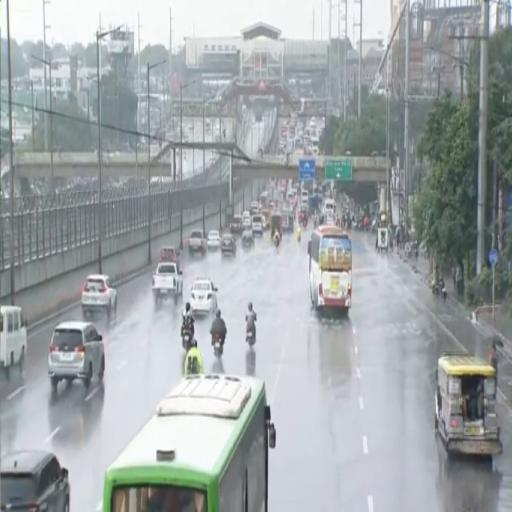bus: (103, 375, 275, 511), (308, 226, 351, 312)
car: (0, 451, 70, 511), (48, 322, 104, 391), (0, 306, 26, 377), (81, 275, 116, 317), (190, 278, 217, 313), (159, 247, 179, 267), (221, 234, 236, 254), (230, 215, 243, 234), (241, 229, 254, 248), (207, 231, 220, 249), (252, 215, 263, 235), (250, 202, 260, 216), (243, 212, 251, 229)
jeepney: (435, 354, 502, 456)
motorcycle: (246, 313, 256, 346), (433, 282, 447, 301), (212, 334, 223, 358), (182, 329, 192, 351), (438, 283, 447, 301), (273, 236, 280, 247)
truck: (152, 262, 182, 303), (189, 230, 206, 254)
